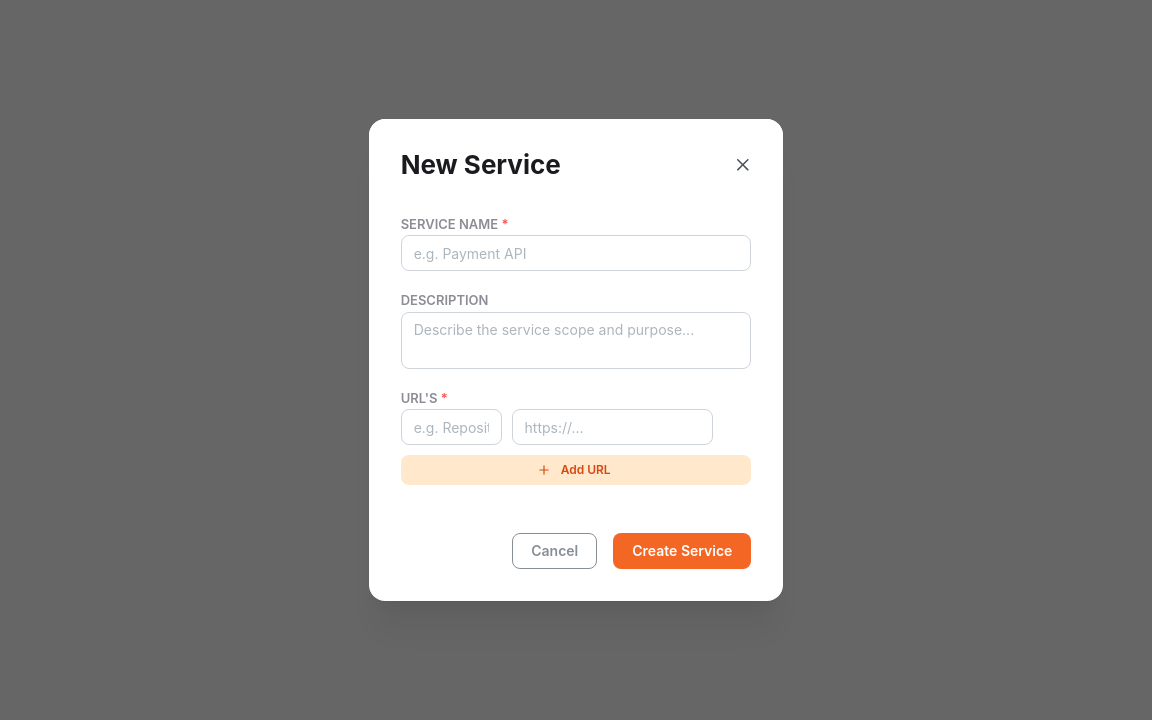
Test: ServicesModalCreate › remove button deletes the row
Click the button with test id "add-url-btn" at (576, 470), box [401,455,751,485]
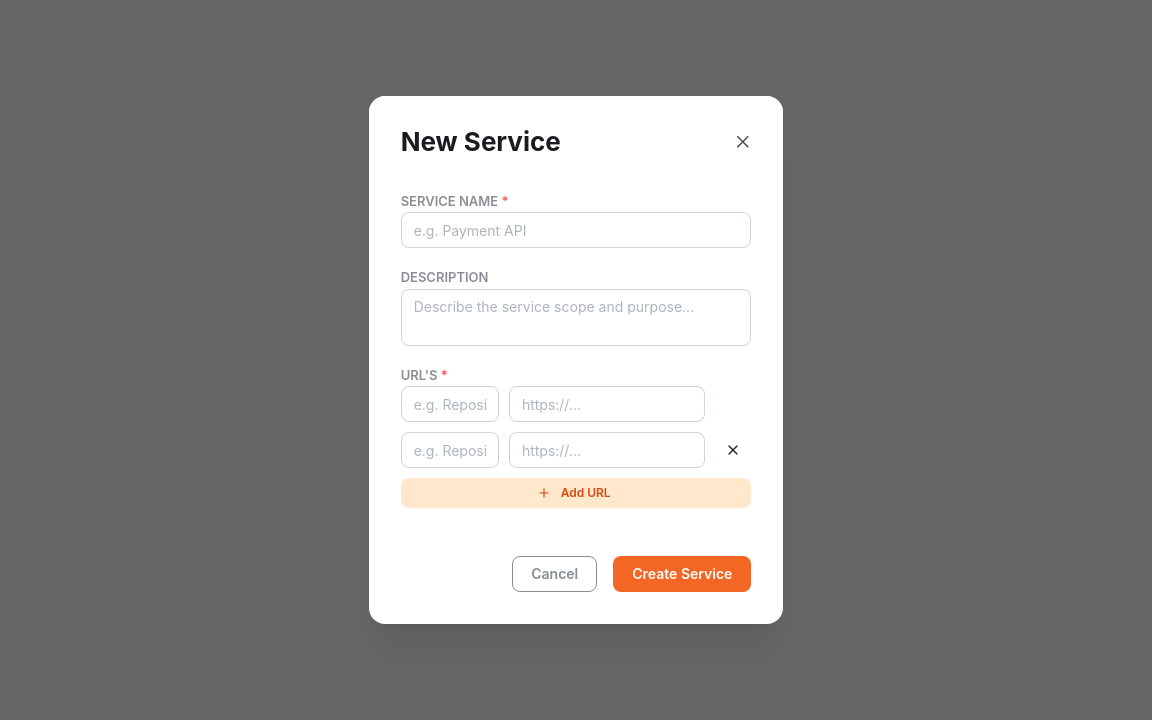
Click the button with test id "remove-url-1" at (733, 450), box [715,432,751,468]
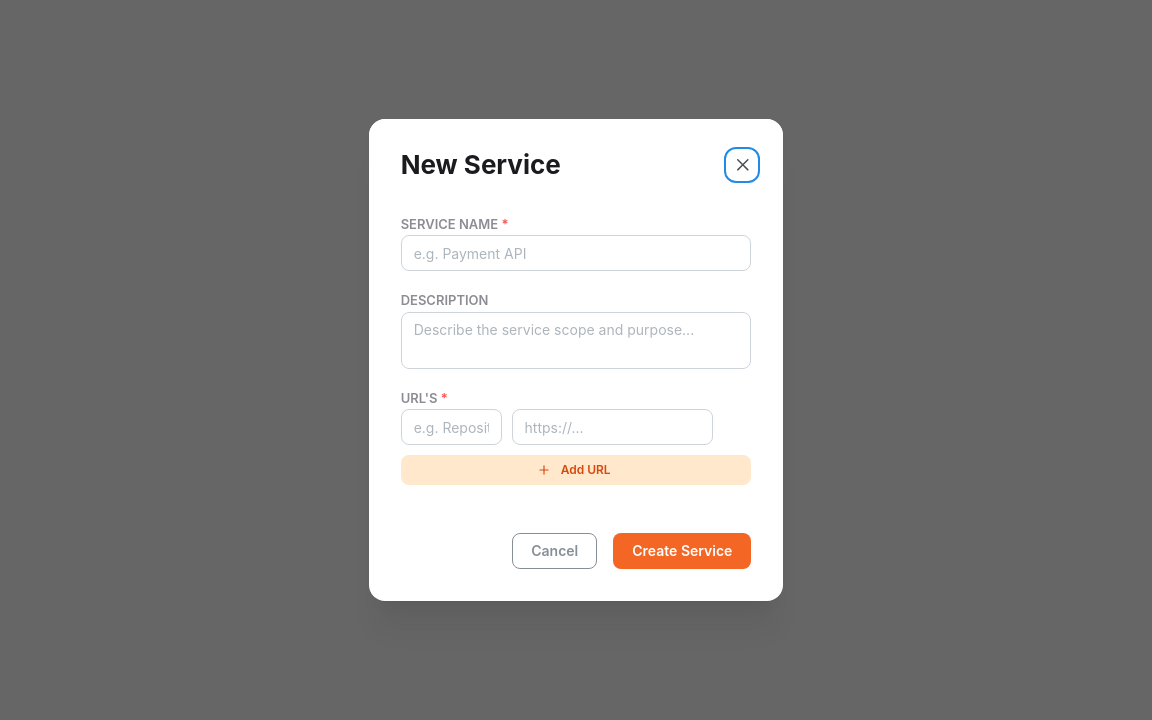
Expected: the field with test id "url-nombre-1" is gone
